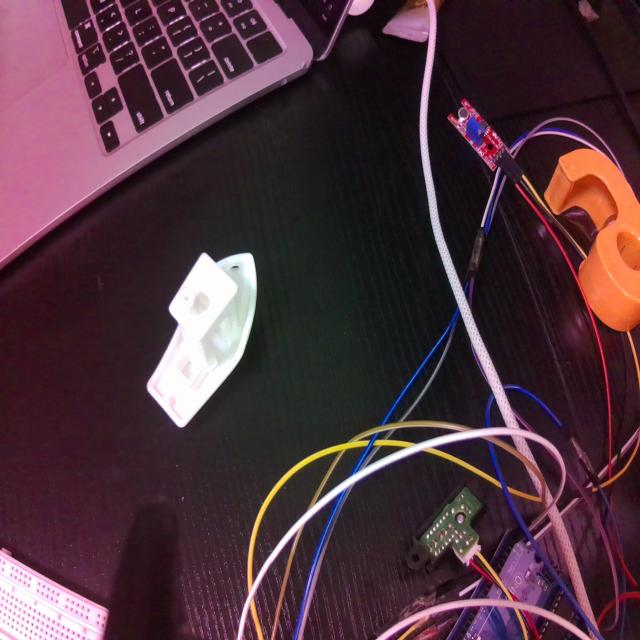ship: (145, 248, 260, 430)
